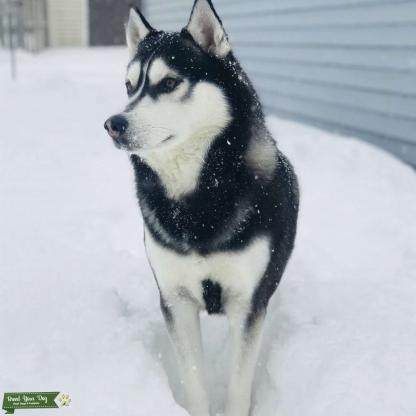husky: (107, 7, 299, 416)
